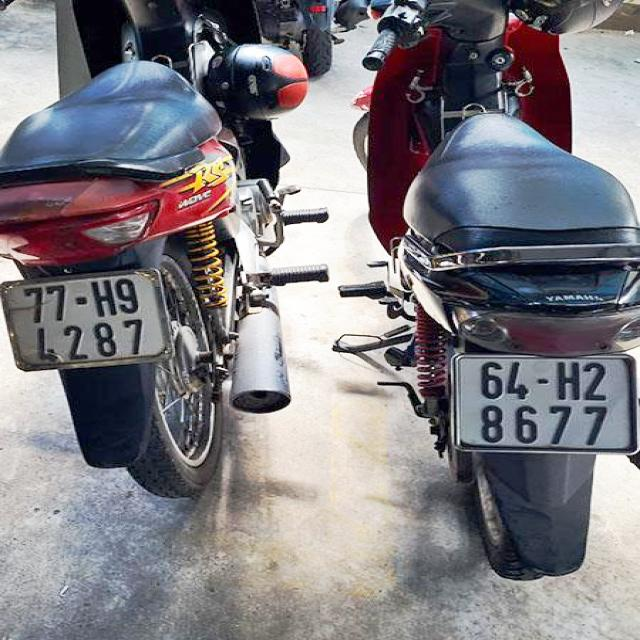license_plate: (456, 357, 636, 452), (4, 273, 174, 373)
